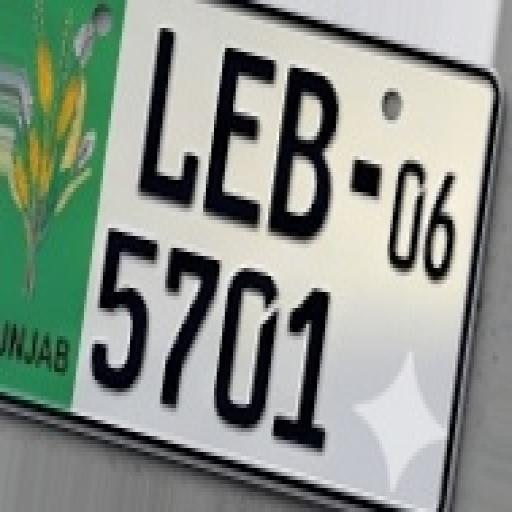0: (224, 250, 268, 434)
1: (282, 263, 330, 468)
5: (97, 215, 149, 415)
7: (160, 230, 218, 425)
B: (274, 63, 334, 245)
E: (204, 16, 267, 236)
L: (142, 20, 193, 210)
